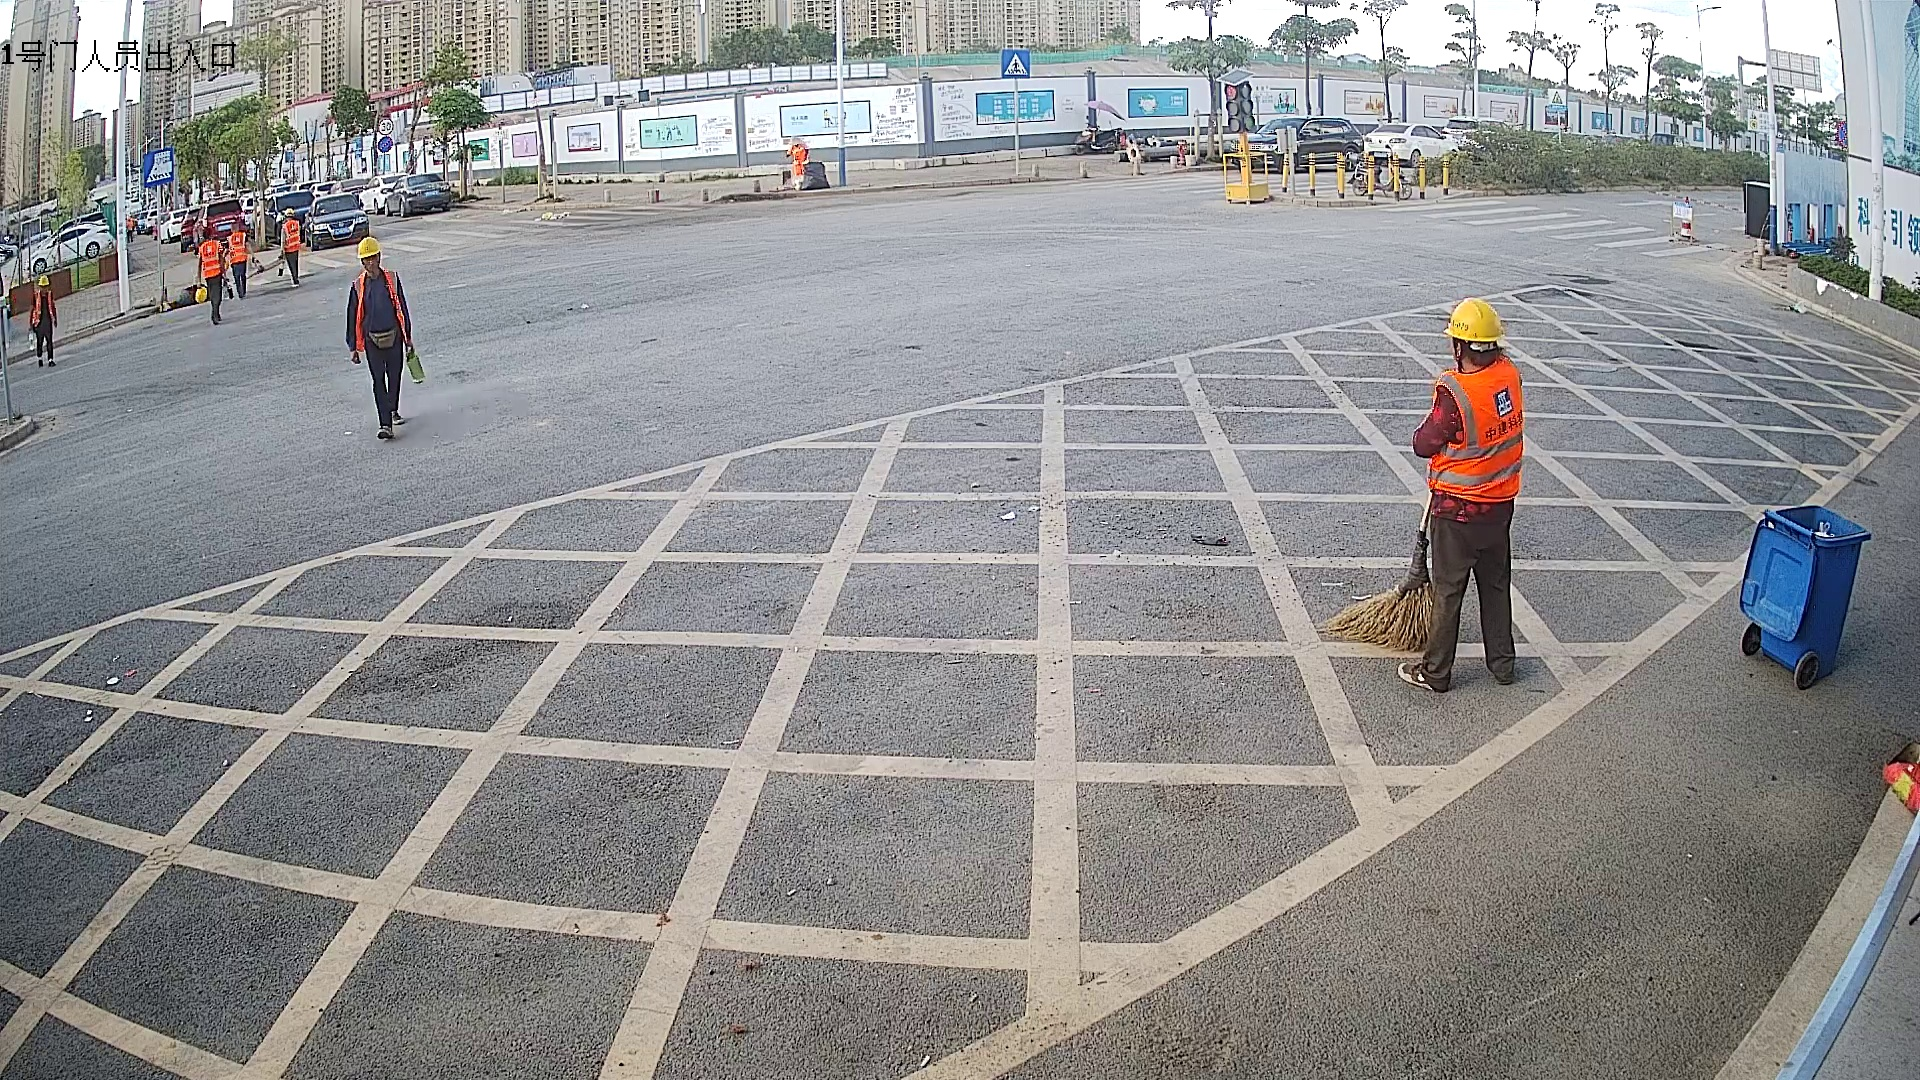ordinary_clothes: (351, 269, 409, 353)
person: (1391, 294, 1527, 699), (345, 234, 417, 441), (194, 229, 227, 325), (28, 273, 58, 369), (278, 207, 303, 289), (225, 223, 250, 300)
reflective_vest: (1424, 357, 1527, 505), (198, 238, 223, 279), (29, 291, 57, 329), (226, 231, 248, 263), (282, 219, 301, 253)
safety_helmet: (1443, 294, 1508, 369), (355, 234, 383, 274), (37, 273, 51, 294), (194, 285, 208, 304), (283, 207, 295, 220)
